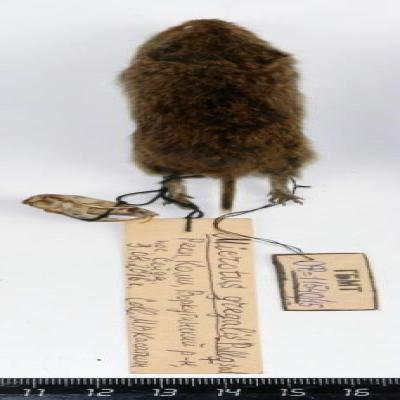natural_science_collection: (116, 19, 317, 219)
